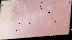plaque psoriasis: (5, 0, 72, 40)
